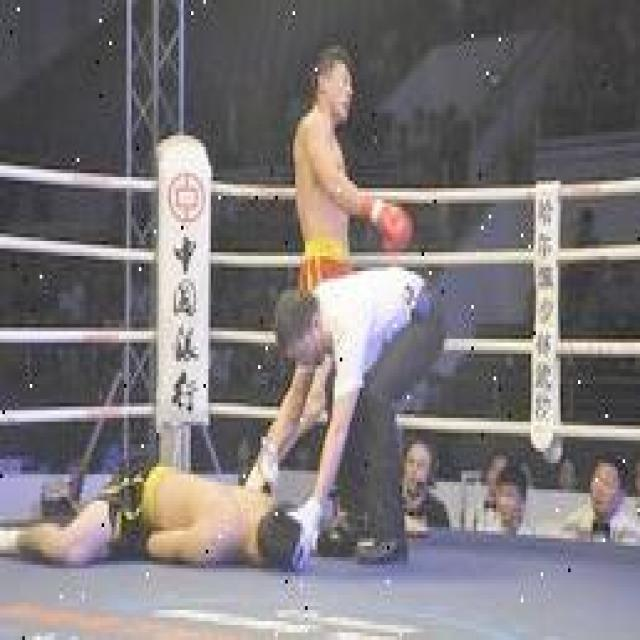fall: (3, 452, 300, 561)
